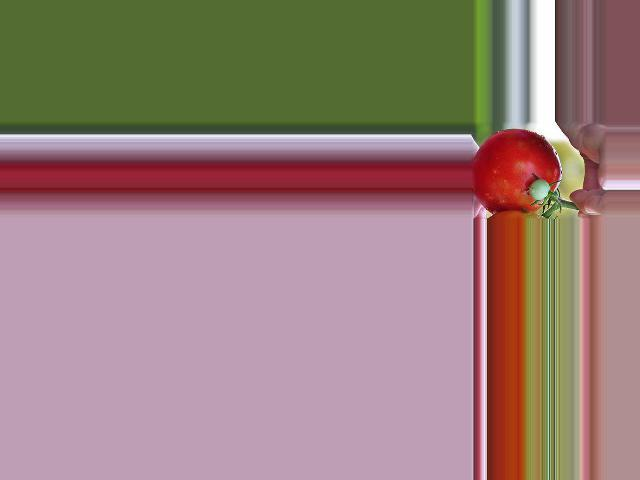tomato: (471, 129, 562, 213)
